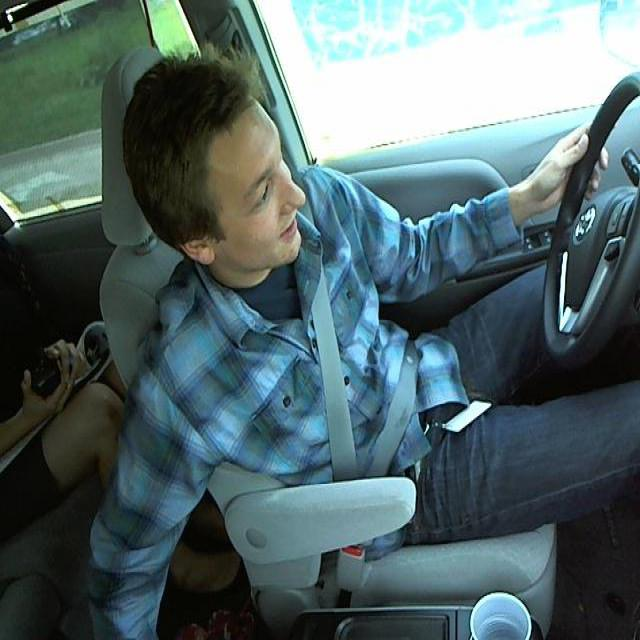seatbelt: (295, 257, 435, 479)
